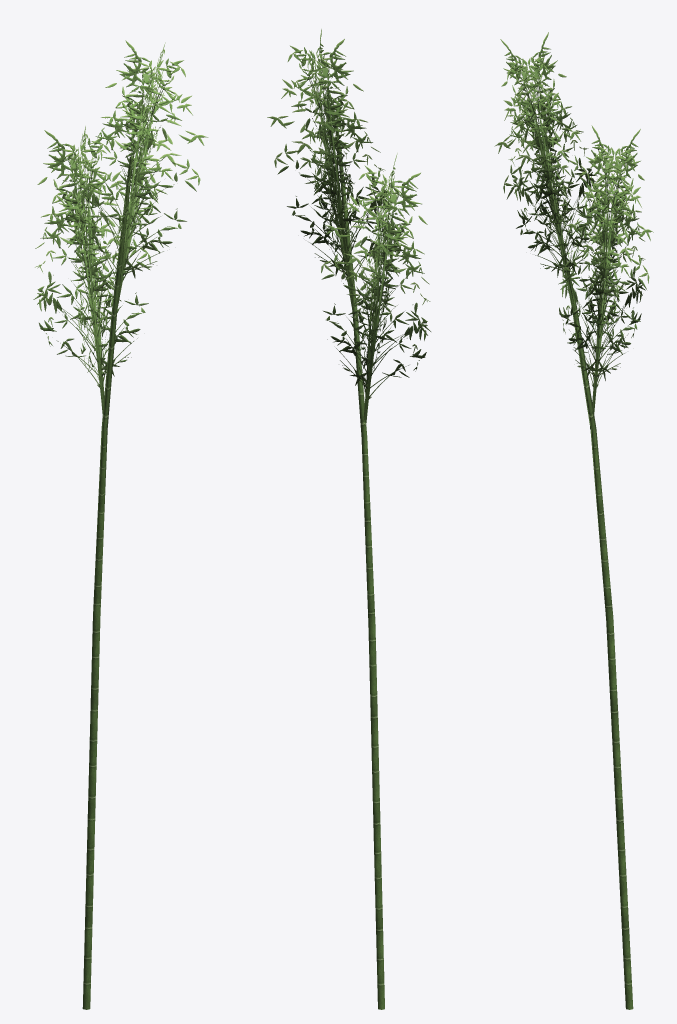
The model's file is bamboo04.fbx.
The picture shows the model from 3 angles, left to right: view 1: azimuth 30°, elevation 25°; view 2: azimuth 210°, elevation 25°; view 3: azimuth 270°, elevation 25°; orthographic projection. The views are drawn at different scales.
Visible parts, largest first — view 1: mdl_LOD0_sw; view 2: mdl_LOD0_sw; view 3: mdl_LOD0_sw.
Part boxes in pixels (x1,y1,x2,y2): mdl_LOD0_sw: (33,40,208,1009); mdl_LOD0_sw: (267,29,430,1009); mdl_LOD0_sw: (494,32,653,1009).
Size of what is drawn, in the model's own units: 313 by 2576 by 438.
